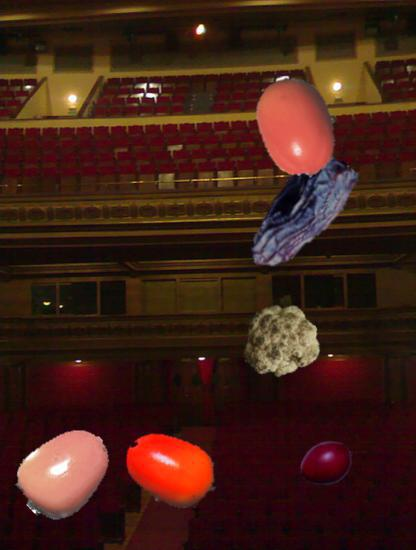Cauliflower: (238, 301, 319, 382)
Dates: (232, 145, 367, 280)
Kaki: (246, 76, 350, 180), (14, 422, 114, 522), (121, 421, 221, 521)
Tamarillo: (299, 432, 360, 493)
